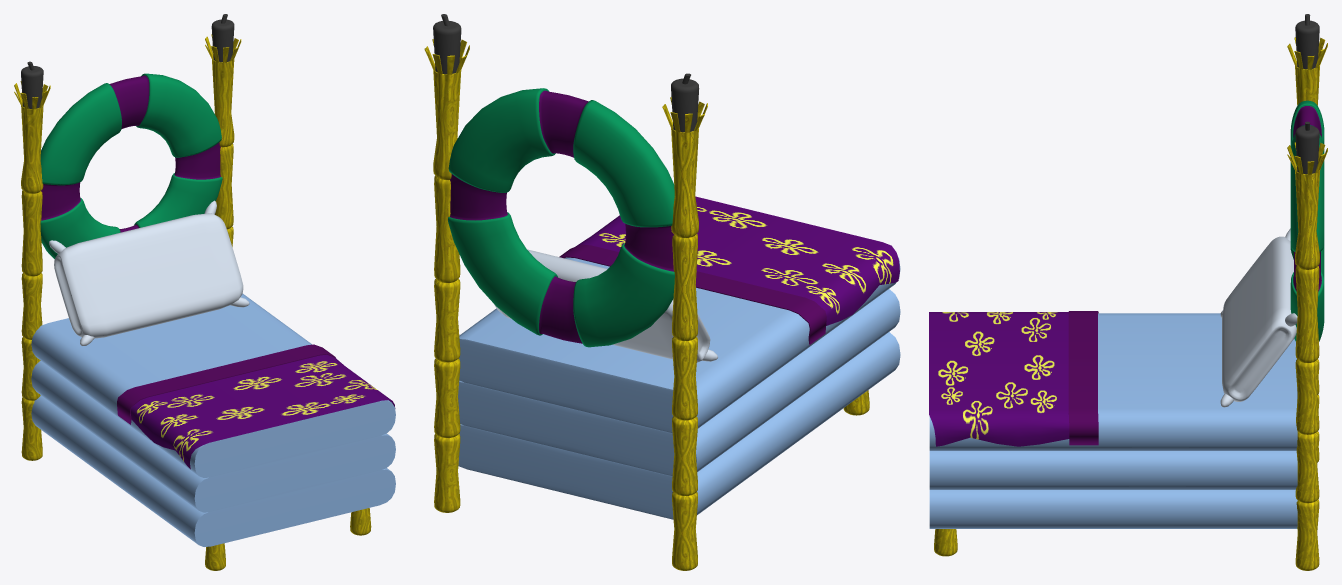
Rendered from spongebobs_bed.glb.
3 renders of one model, left to right at view 1: azimuth 30°, elevation 25°; view 2: azimuth 150°, elevation 25°; view 3: azimuth 270°, elevation 25°, orthographic. The views are drawn at different scales.
Parts seen in each view (by area): view 1: Bed_02 - Default_0, Bed_04 - Default_0, Bed_08 - Default_0, Bed_10 - Default_0, Bed_03 - Default_0, Bed_09 - Default_0, Bed_07 - Default_0; view 2: Bed_02 - Default_0, Bed_08 - Default_0, Bed_03 - Default_0, Bed_10 - Default_0, Bed_09 - Default_0, Bed_04 - Default_0, Bed_07 - Default_0; view 3: Bed_02 - Default_0, Bed_10 - Default_0, Bed_03 - Default_0, Bed_04 - Default_0, Bed_09 - Default_0, Bed_08 - Default_0, Bed_07 - Default_0.
Boxes of the visible parts, bbox=[...] form: Bed_02 - Default_0: bbox=[31, 293, 395, 546]; Bed_04 - Default_0: bbox=[49, 200, 249, 345]; Bed_08 - Default_0: bbox=[40, 73, 222, 258]; Bed_10 - Default_0: bbox=[130, 354, 395, 469]; Bed_03 - Default_0: bbox=[14, 34, 371, 570]; Bed_09 - Default_0: bbox=[41, 75, 335, 424]; Bed_07 - Default_0: bbox=[21, 14, 234, 108]; Bed_02 - Default_0: bbox=[458, 257, 900, 519]; Bed_08 - Default_0: bbox=[448, 88, 674, 347]; Bed_03 - Default_0: bbox=[424, 39, 869, 570]; Bed_10 - Default_0: bbox=[575, 196, 899, 325]; Bed_09 - Default_0: bbox=[450, 90, 826, 344]; Bed_04 - Default_0: bbox=[494, 249, 717, 362]; Bed_07 - Default_0: bbox=[433, 14, 699, 132]; Bed_02 - Default_0: bbox=[929, 313, 1297, 528]; Bed_10 - Default_0: bbox=[929, 312, 1069, 446]; Bed_03 - Default_0: bbox=[934, 37, 1327, 570]; Bed_04 - Default_0: bbox=[1220, 228, 1297, 407]; Bed_09 - Default_0: bbox=[1068, 106, 1321, 445]; Bed_08 - Default_0: bbox=[1290, 100, 1324, 341]; Bed_07 - Default_0: bbox=[1295, 14, 1319, 174].
Size of the model in its own units: 332 by 563 by 457.
Materials: 7 (2 with a texture image).
